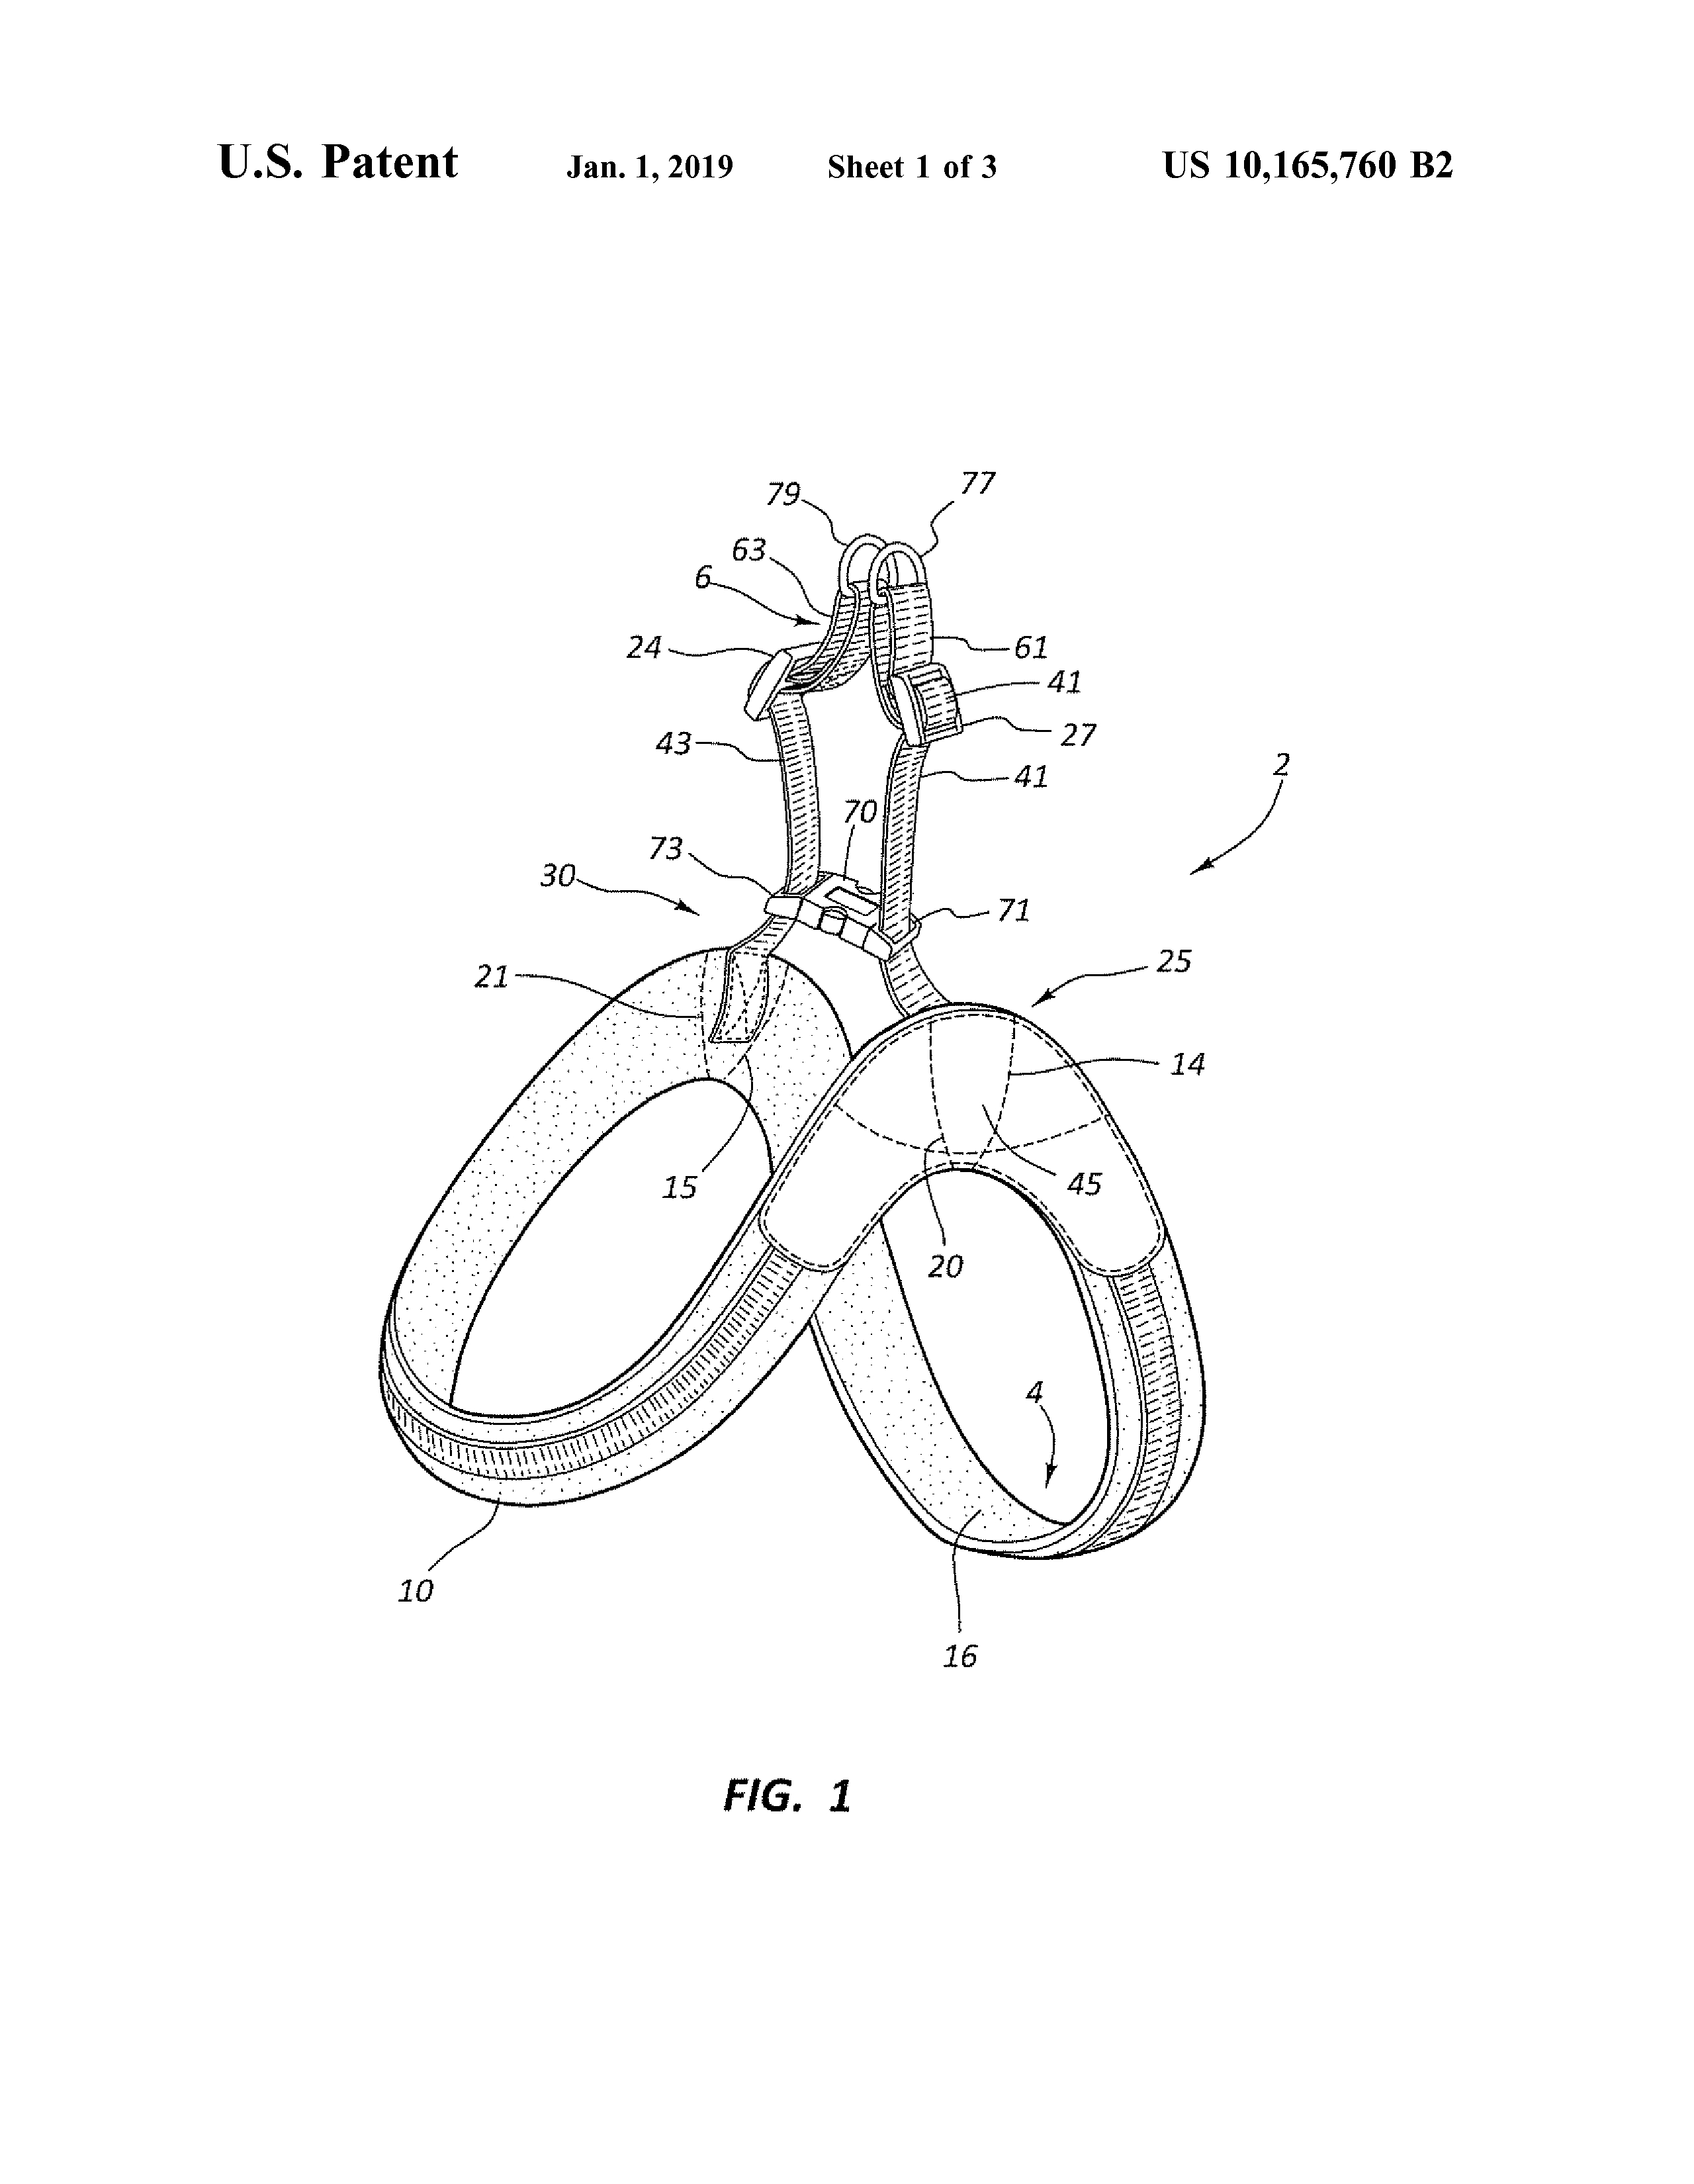patent image: (371, 441, 1303, 1834)
